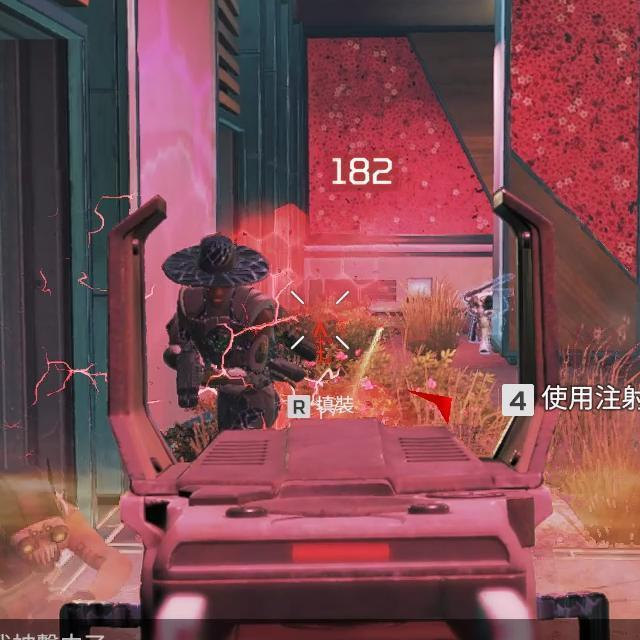avatar: (160, 232, 283, 433)
